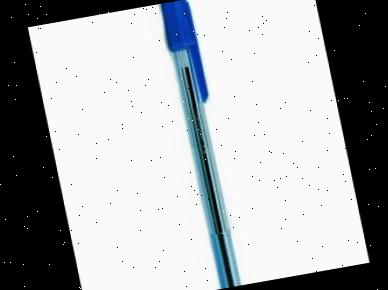pen-pencil: (161, 0, 241, 289)
